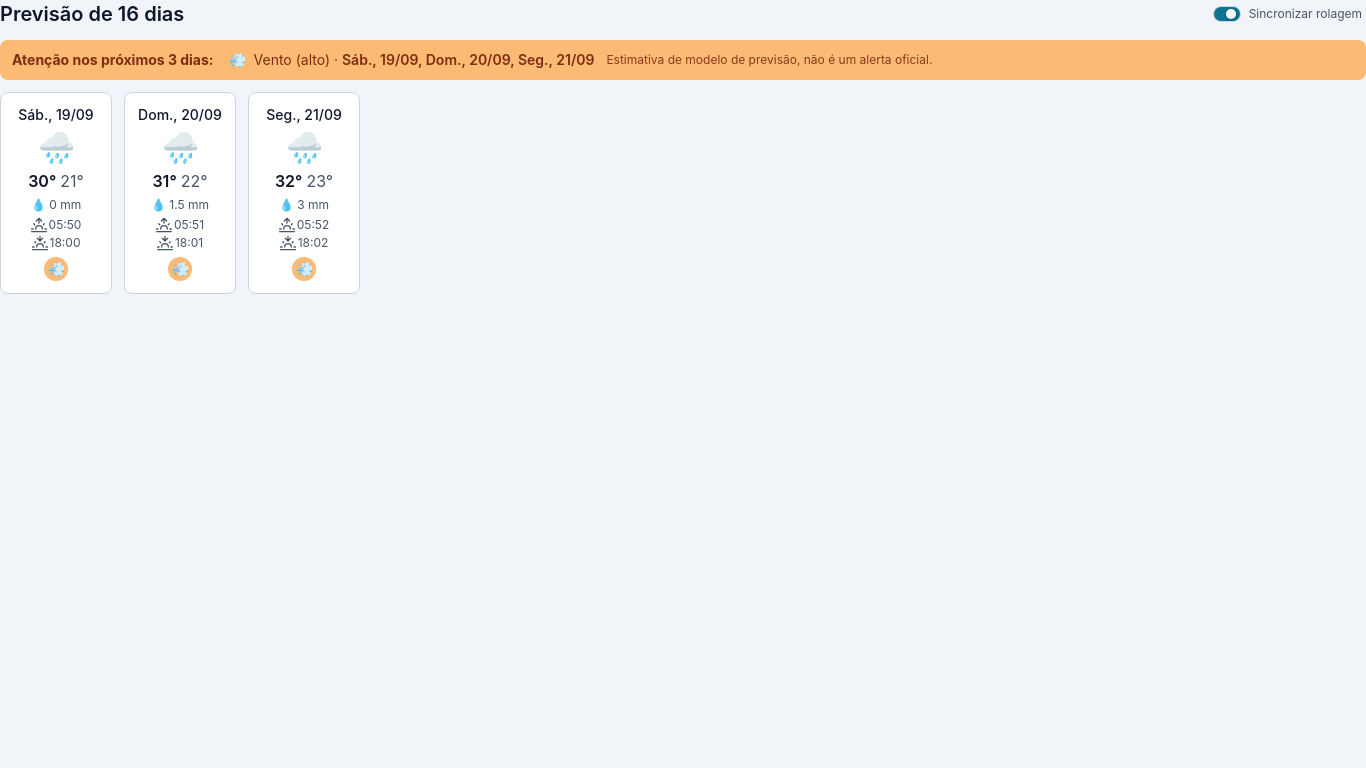
Test: ForecastCards › day detail modal › navigating inside the modal changes the day without closing it
This screenshot has width=1366, height=768.
What coordinates should you click on to do the following:
click the button with test id "day-card"
I would click on:
 (180, 193)
Its box is [124,92,236,294].
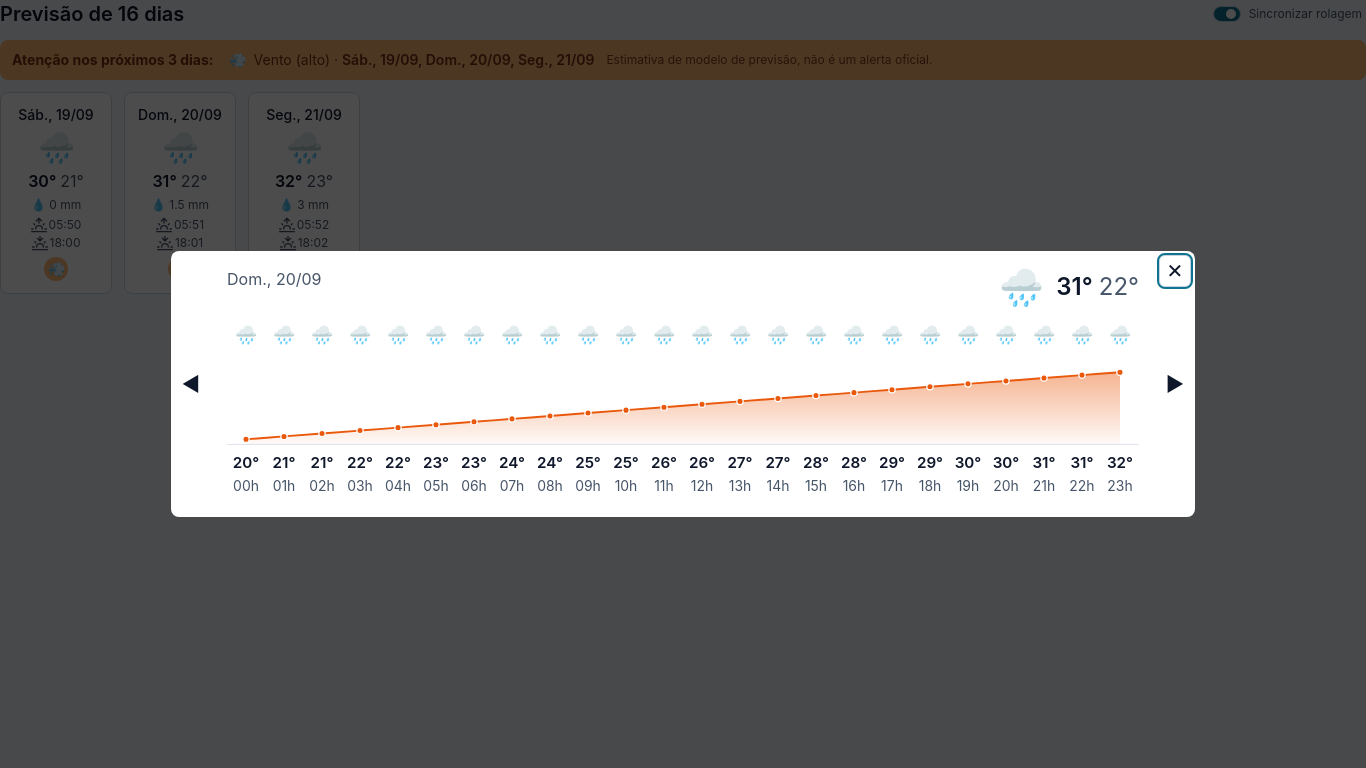
What coordinates should you click on to do the following:
click the button with test id "day-next"
I would click on:
 (1175, 384)
Its box is [1155,251,1195,517].
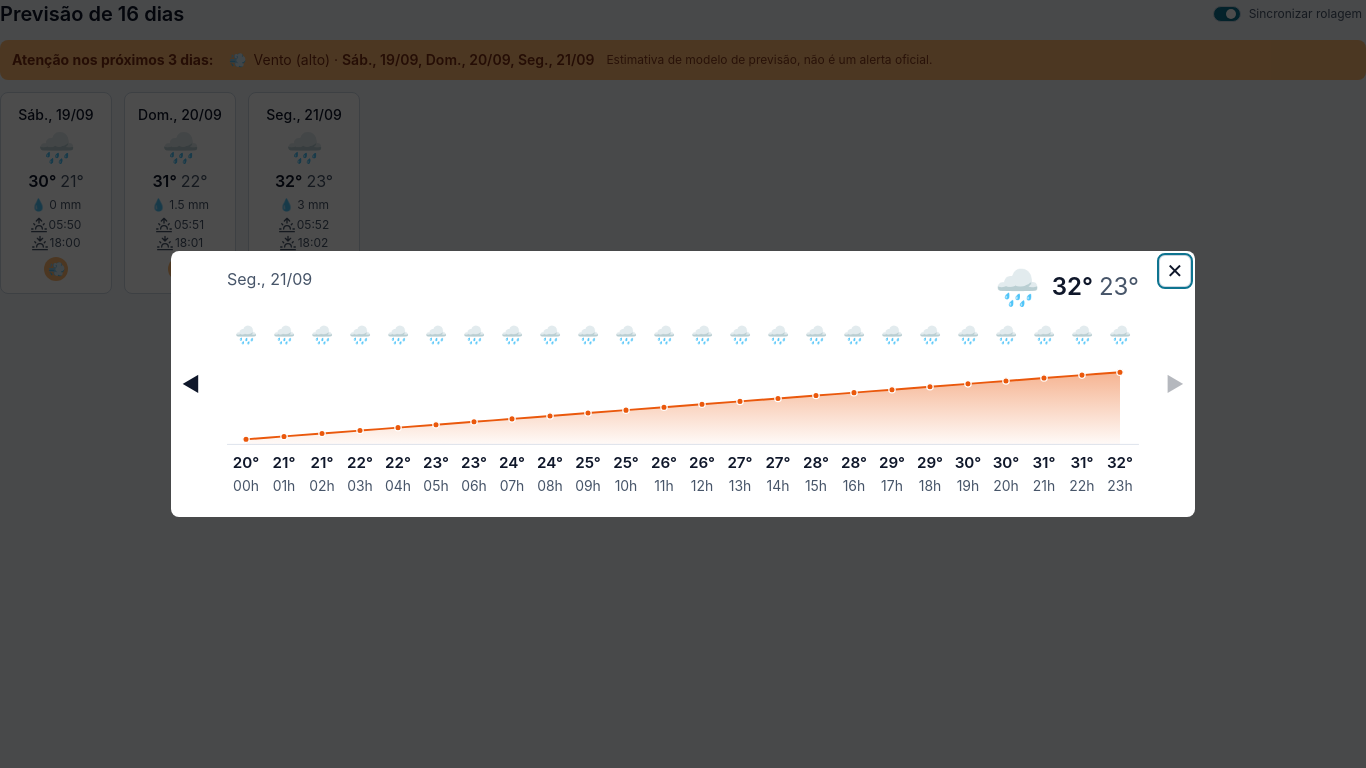
Result: the text with test id "day-date" shows "21/09" at [227,269,312,289]
What coordinates should you click on to do the following:
click the button with test id "day-prev"
I would click on:
 (191, 384)
Its box is [171,251,211,517].
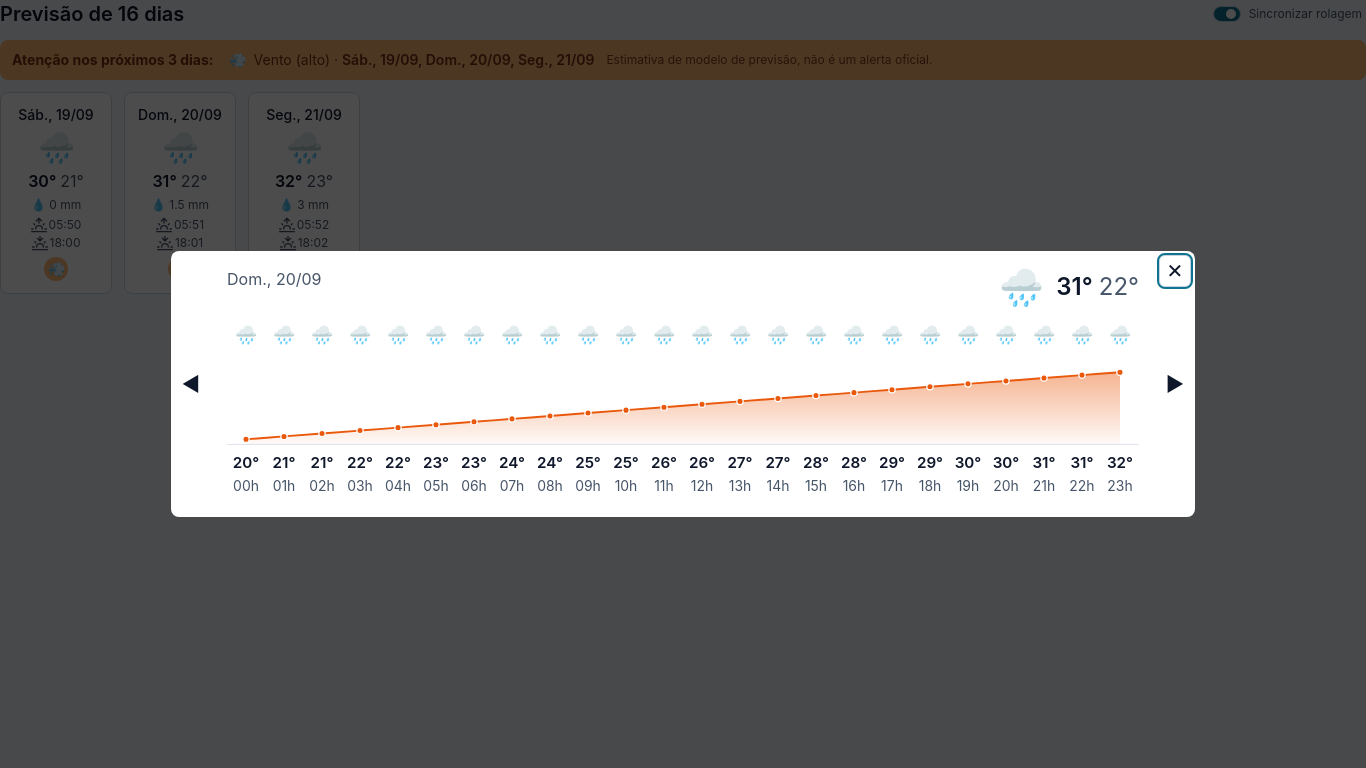
What coordinates should you click on to do the following:
click the button with test id "day-prev"
I would click on:
 (191, 384)
Its box is [171,251,211,517].
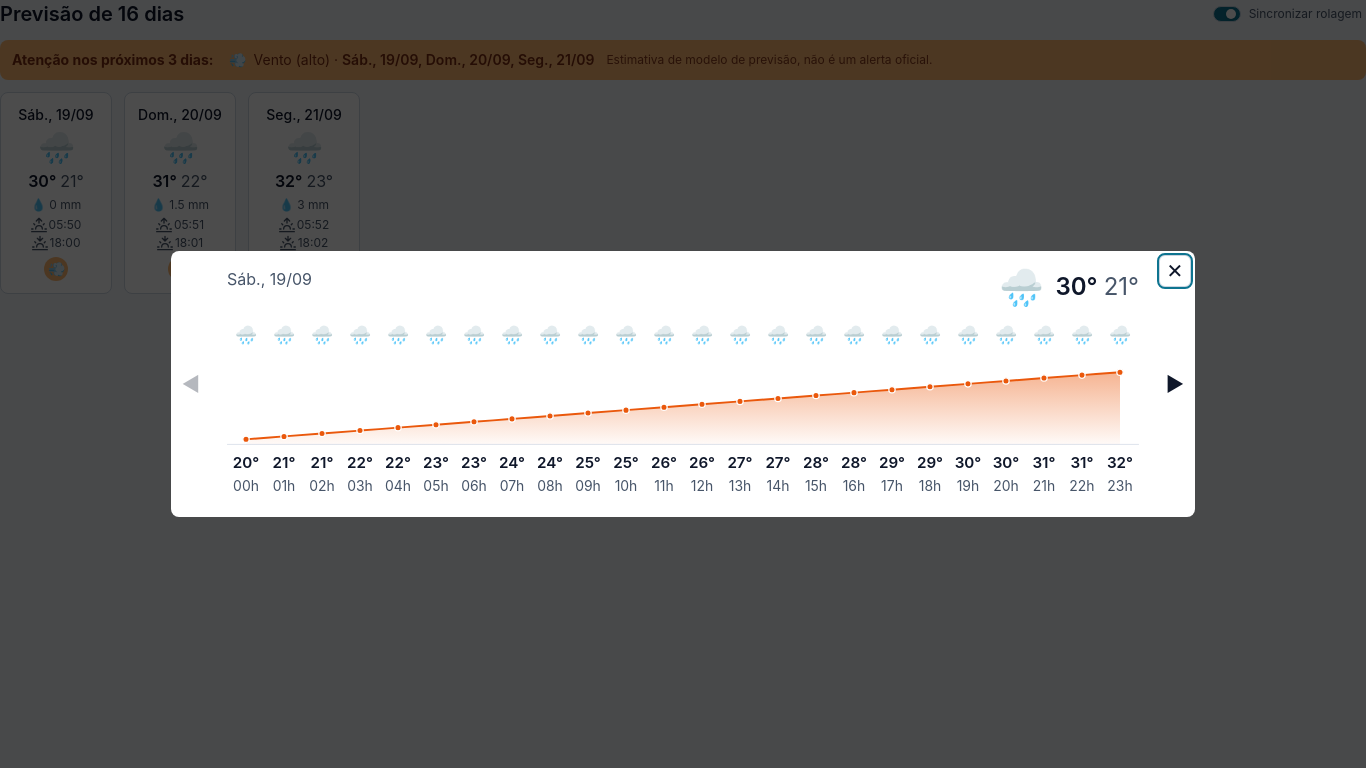
Result: the text with test id "day-date" shows "19/09" at [227,269,312,289]
